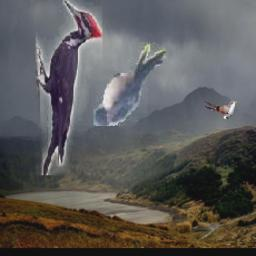Cuckoo: (206, 101, 238, 120)
Swallow: (95, 43, 167, 127)
Woodpecker: (36, 0, 102, 176)
